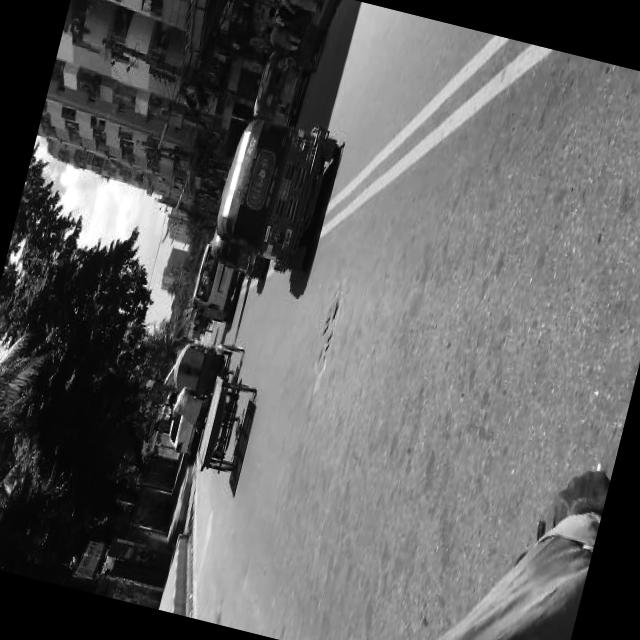car: (161, 410, 199, 458)
motorcycle: (206, 107, 344, 280), (149, 362, 261, 482), (167, 332, 244, 404), (248, 53, 308, 128)
truck: (186, 242, 246, 326)
